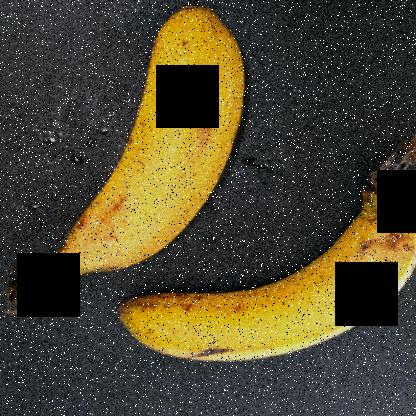ripe: (124, 170, 415, 369), (57, 1, 272, 269)
